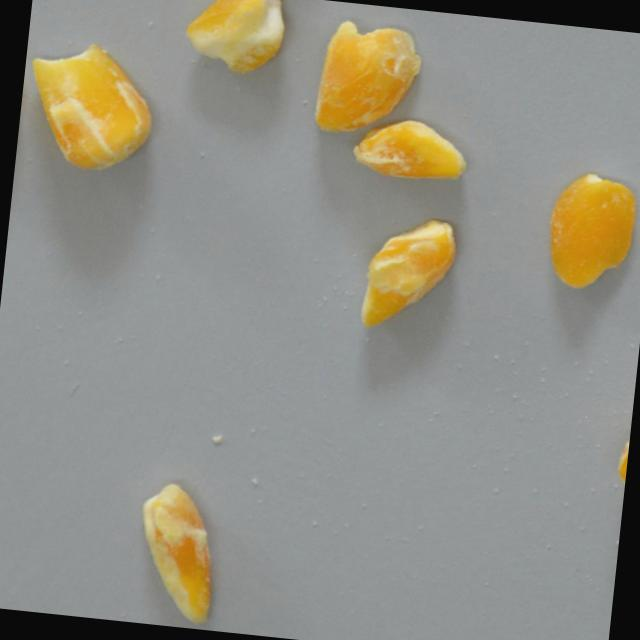dañado: (18, 33, 162, 178), (306, 12, 427, 143), (126, 475, 225, 629), (354, 206, 463, 337), (540, 165, 640, 295), (344, 112, 472, 186), (178, 0, 292, 81), (607, 406, 632, 503)
